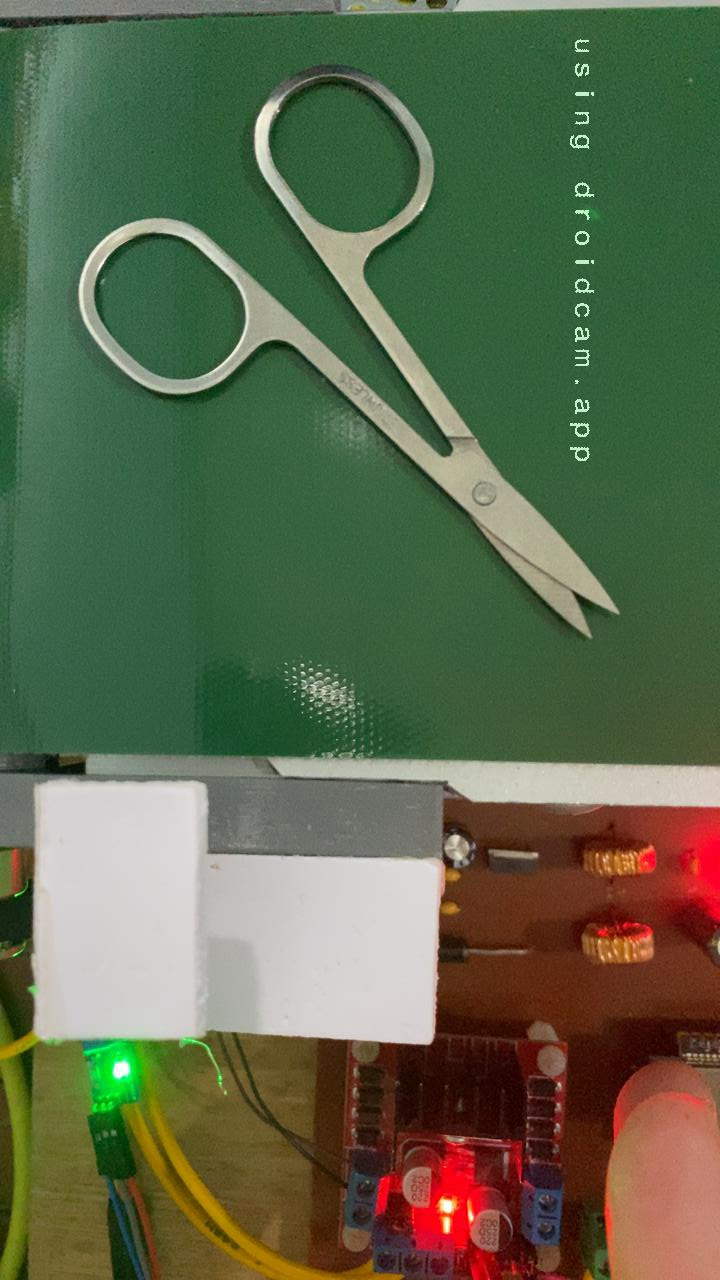scissor: (72, 73, 623, 641)
